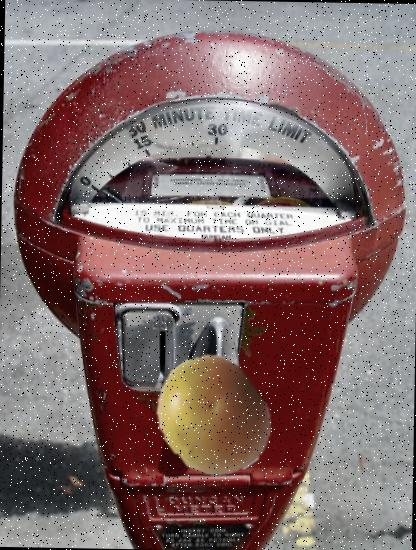Cherry: (148, 354, 274, 480)
